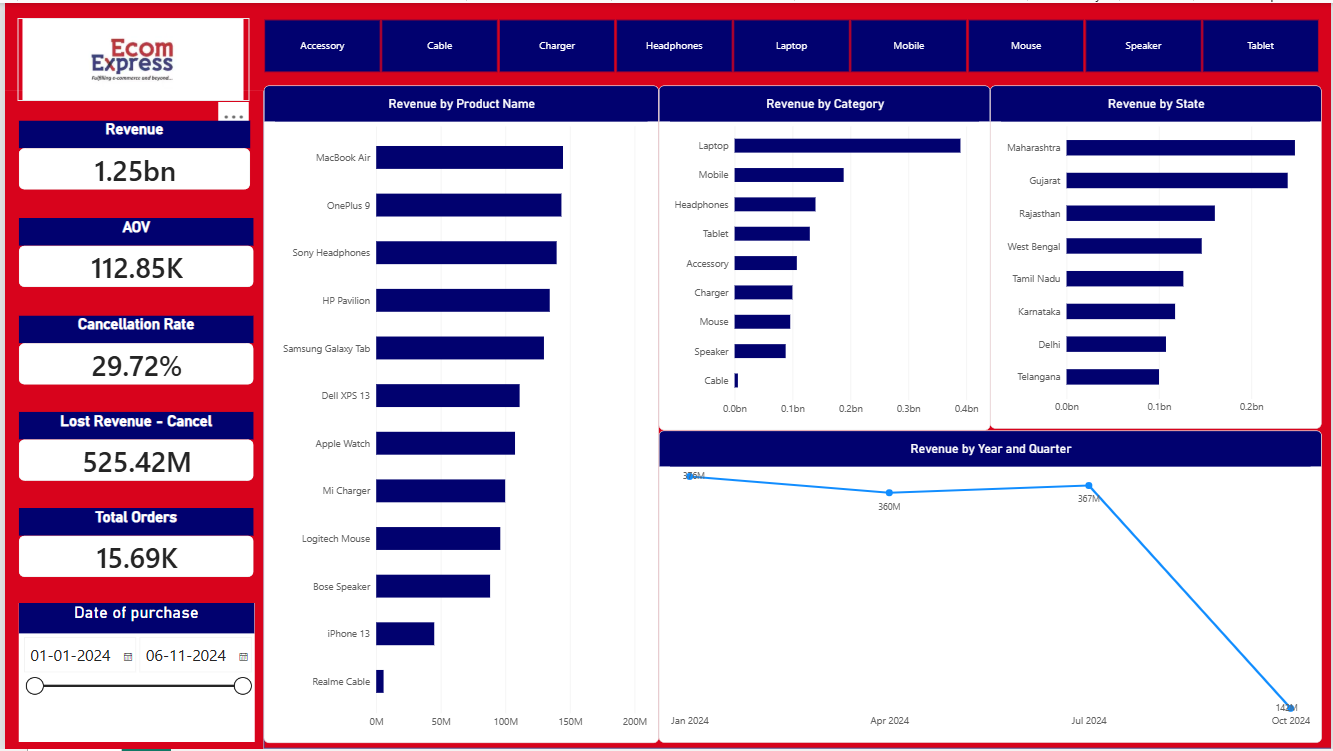

Layout of this report page (visuals, bound fields, positions):
{"tool":"powerbi","page":{"name":"Page 1","canvas":[1920,1080],"ordinal":0},"visuals":[{"type":"shape","box":[0,126,374,954],"z":0},{"type":"shape","box":[374,122,1546,958],"z":1000},{"type":"shape","box":[0,0,1920,127.1],"z":2000},{"type":"image","box":[19,21,335,120],"z":3000},{"type":"barChart","fields":{"Category":["products.Product Name"],"Y":["Table.Revenue"]},"box":[374,120,572,952],"z":4000},{"type":"barChart","fields":{"Category":["products.Category"],"Y":["Table.Revenue"]},"box":[945.9,119.2,480.4,499],"z":5000},{"type":"lineChart","fields":{"Category":["orders.Date and time of purchase.Variation.Date Hierarchy.Year","orders.Date and time of purchase.Variation.Date Hierarchy.Quarter","orders.Date and time of purchase.Variation.Date Hierarchy.Month","orders.Date and time of purchase.Variation.Date Hierarchy.Day"],"Y":["Table.Revenue"]},"box":[946,618,960,452],"z":6000},{"type":"barChart","fields":{"Category":["customers.State"],"Y":["Table.Revenue"]},"box":[1426.2,119.2,480.4,497.1],"z":7000},{"type":"slicer","fields":{"Values":["products.Category"]},"box":[354,21,1566,80],"z":8000},{"type":"cardVisual","title":"Revenue","fields":{"Data":["Table.Revenue"]},"box":[20,170,335,100],"z":9000},{"type":"cardVisual","title":"AOV","fields":{"Data":["Table.AOV"]},"box":[20,312,340,100],"z":10000},{"type":"cardVisual","title":"Total Orders ","fields":{"Data":["CountNonNull(orders.OrderID)"]},"box":[20,732,340,100],"z":11000},{"type":"cardVisual","title":"Lost Revenue - Cancel","fields":{"Data":["Table.lost_rev_cancellation"]},"box":[20,592,340,100],"z":12000},{"type":"cardVisual","title":"Cancellation Rate ","fields":{"Data":["Table.cancellation_rate"]},"box":[20,452,340,100],"z":13000},{"type":"slicer","title":"Date of purchase ","fields":{"Values":["orders.Date and time of purchase"]},"box":[20.5,869.5,340.7,201.1],"z":14000}]}

Visuals, with their boxes in screenshot pixels (x1, y1, x2, y2), scaled from the page's 1920x1080 canvas onto the 1333x751 screenshot:
shape: [x1=0, y1=88, x2=260, y2=750]
shape: [x1=260, y1=85, x2=1332, y2=750]
shape: [x1=0, y1=0, x2=1332, y2=88]
image: [x1=13, y1=15, x2=246, y2=98]
barChart - products.Product Name x Table.Revenue: [x1=260, y1=83, x2=657, y2=745]
barChart - products.Category x Table.Revenue: [x1=657, y1=83, x2=990, y2=430]
lineChart - orders.Date and time of purchase.Variation.Date Hierarchy.Year x orders.Date and time of purchase.Variation.Date Hierarchy.Quarter: [x1=657, y1=430, x2=1323, y2=744]
barChart - customers.State x Table.Revenue: [x1=990, y1=83, x2=1324, y2=429]
slicer - products.Category: [x1=246, y1=15, x2=1332, y2=70]
"Revenue" cardVisual: [x1=14, y1=118, x2=246, y2=188]
"AOV" cardVisual: [x1=14, y1=217, x2=250, y2=286]
"Total Orders " cardVisual: [x1=14, y1=509, x2=250, y2=579]
"Lost Revenue - Cancel" cardVisual: [x1=14, y1=412, x2=250, y2=481]
"Cancellation Rate " cardVisual: [x1=14, y1=314, x2=250, y2=384]
"Date of purchase " slicer: [x1=14, y1=605, x2=251, y2=744]
